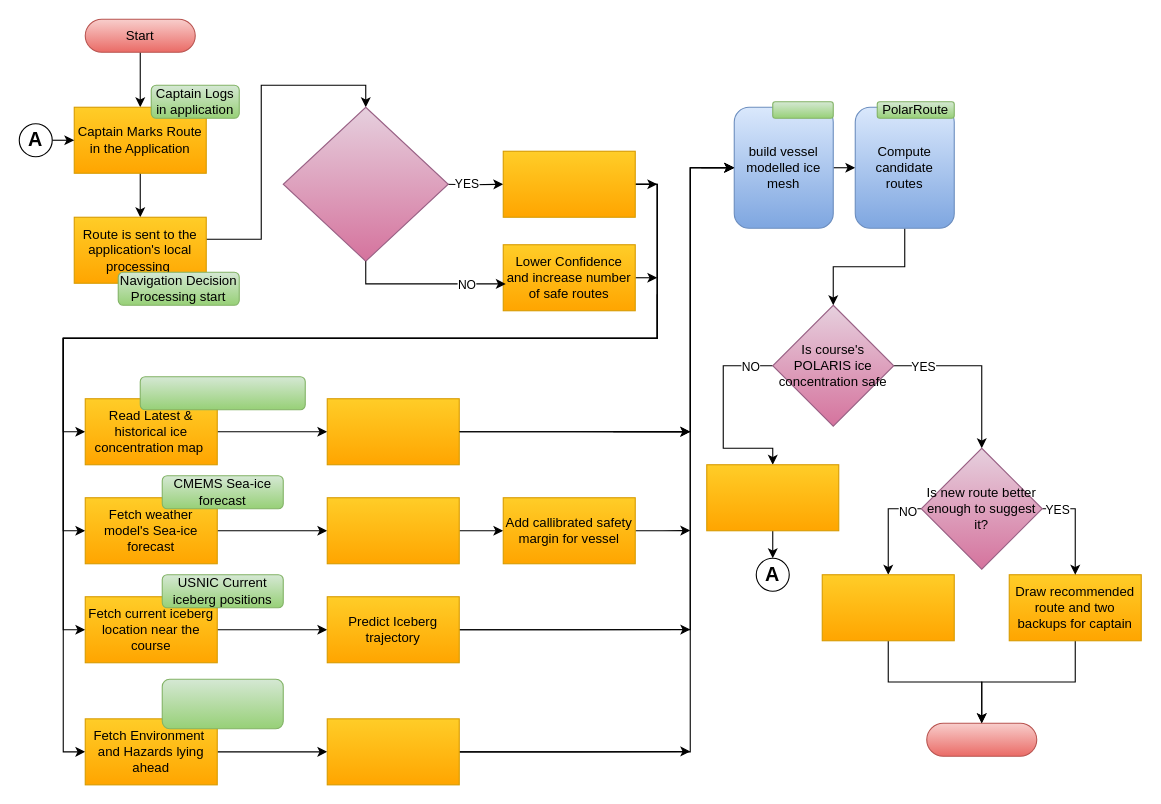
Some shapes in this 1161 by 804 pixel diagram are drawn without their labels. The shapes that lost their labels are listed below. From the top down, each one's centre as x and y in pixels, then its label:
point 802,109: meshiphi
point 365,183: AI model checks yesterdays ice movement forecast correctness
point 568,183: Keep default Confidence in route suggestion
point 222,393: Taken by NSIDC satellite with SSMIS sensor
point 392,431: Clean unreliable data/noise in satellite image
point 772,497: Advise Captain to recartograph a new route
point 392,530: AI model corrects mistakes in the forecast
point 887,607: Keep the captains original route
point 222,703: ERA/GFS wind + waves , GEBCO bathymetry
point 392,751: Analyze weather forecast and hazards ahead
point 981,739: End
